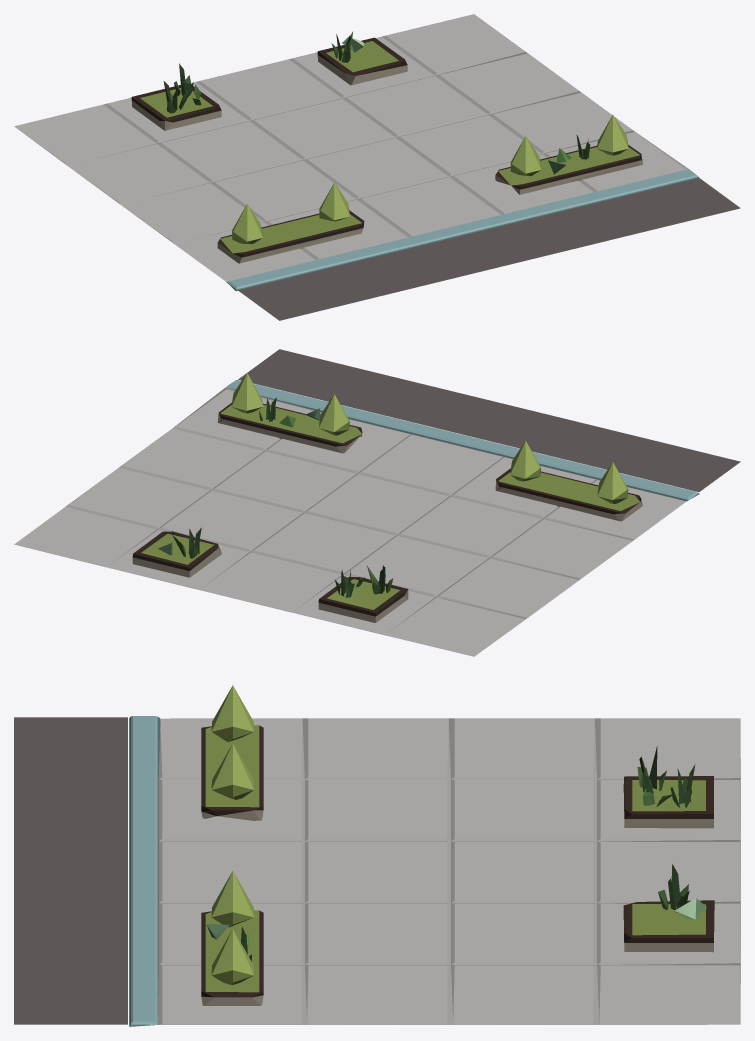
File: QmT49peL38bQSEtzYpUT99UZnvGzcujGAvw7JWmvxg5cKm_lod2.fbx
3 renders of one model, top to bottom at view 1: azimuth 30°, elevation 25°; view 2: azimuth 150°, elevation 25°; view 3: azimuth 270°, elevation 25°, orthographic. The views are drawn at different scales.
Visible parts, largest first — view 1: Entity_512; view 2: Entity_512; view 3: Entity_512.
Part boxes in pixels (x1,y1,x2,y2): Entity_512: [14, 14, 740, 320]; Entity_512: [14, 349, 740, 656]; Entity_512: [14, 685, 740, 1026].
Size of the model in its own units: 16000 by 1591 by 15918.
1 material, 1 textured.
